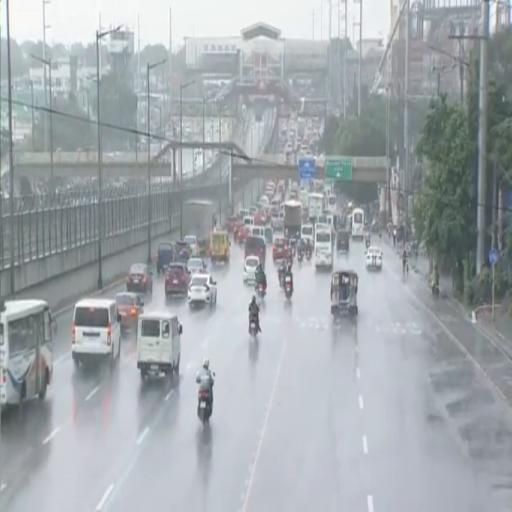bus: (0, 300, 55, 410), (352, 208, 364, 238), (325, 195, 336, 215)
car: (72, 299, 121, 367), (116, 293, 143, 329), (188, 274, 217, 306), (165, 263, 190, 297), (127, 264, 152, 294), (245, 236, 266, 267), (157, 243, 177, 274), (243, 255, 259, 283), (366, 247, 382, 269), (183, 235, 199, 257), (273, 238, 287, 261), (234, 224, 250, 244), (188, 259, 206, 276), (176, 242, 190, 263), (225, 216, 240, 233)
motorcycle: (198, 389, 212, 424), (249, 315, 258, 338), (285, 276, 292, 299), (256, 283, 265, 299), (278, 268, 284, 287), (432, 284, 439, 298), (297, 249, 303, 263), (305, 249, 311, 261), (366, 238, 370, 249)
truck: (284, 200, 302, 238), (309, 194, 323, 222)
